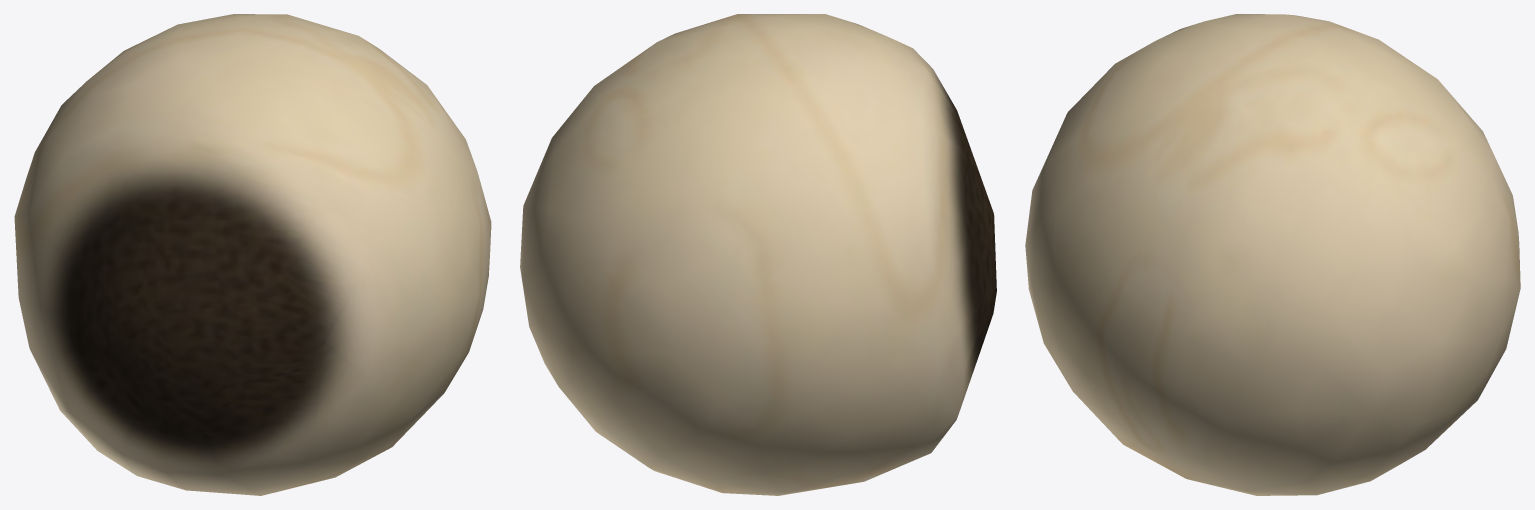
Rendered from Eyes.glb.
3 renders of one model, left to right at view 1: azimuth 30°, elevation 25°; view 2: azimuth 150°, elevation 25°; view 3: azimuth 270°, elevation 25°, orthographic.
Parts seen in each view (by area): view 1: Equine_4; view 2: Equine_4; view 3: Equine_4.
Boxes of the visible parts, x1,y1,x2,y2 form: Equine_4: (14, 14, 491, 495); Equine_4: (520, 14, 996, 495); Equine_4: (1025, 14, 1520, 495).
Bounding box in the file's own units: 0.0424 × 0.0428 × 0.0441.
1 material, 1 textured.
